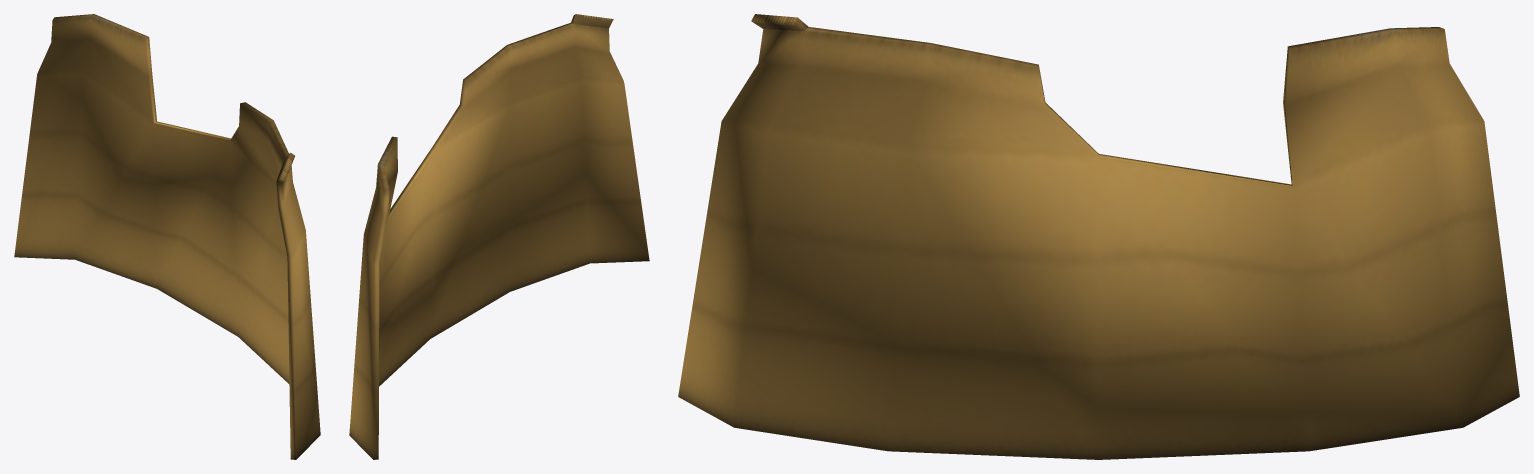
File: stklib_fitchBarrel_a_bodyPartD.glb
3 renders of one model, left to right at view 1: azimuth 30°, elevation 25°; view 2: azimuth 150°, elevation 25°; view 3: azimuth 270°, elevation 25°, orthographic. The views are drawn at different scales.
Visible parts, largest first — view 1: stklib_fitchBarrel_ao_a.jpg__; view 2: stklib_fitchBarrel_ao_a.jpg__; view 3: stklib_fitchBarrel_ao_a.jpg__.
Boxes of the visible parts, bbox=[...] form: stklib_fitchBarrel_ao_a.jpg__: bbox=[14, 14, 320, 459]; stklib_fitchBarrel_ao_a.jpg__: bbox=[349, 14, 649, 459]; stklib_fitchBarrel_ao_a.jpg__: bbox=[678, 14, 1519, 459].
Bounding box in the file's own units: 0.1792 × 0.51 × 0.9599.
1 material, 1 textured.
